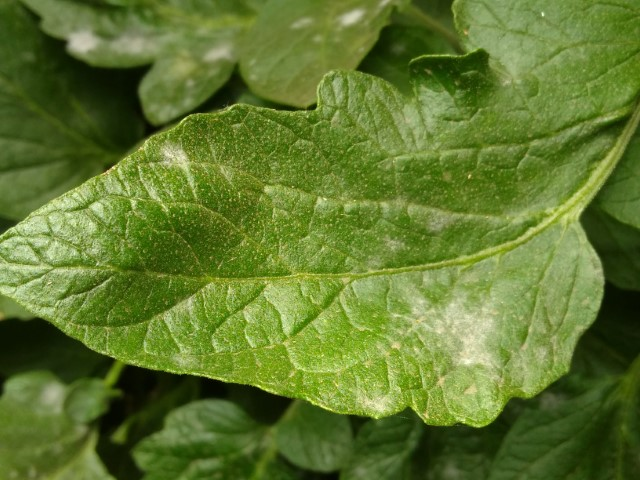oidio: (429, 295, 503, 373), (425, 204, 456, 235), (358, 391, 399, 414), (160, 143, 196, 166), (171, 348, 201, 371)
